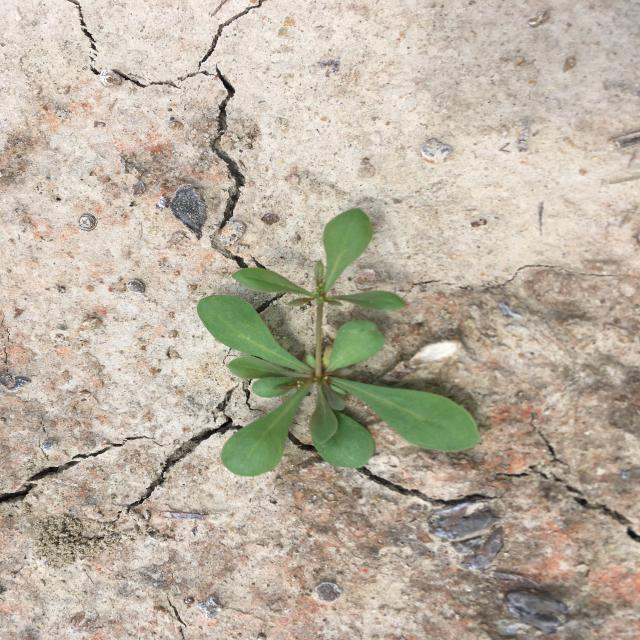Carpetweed: (198, 208, 482, 477)
